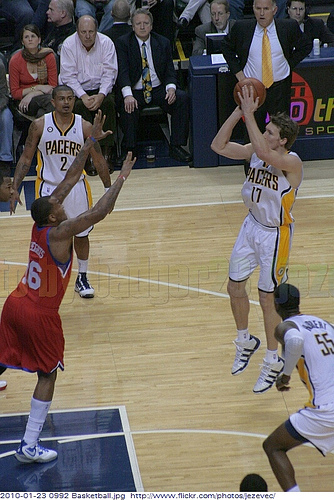basketball: (234, 78, 266, 108)
